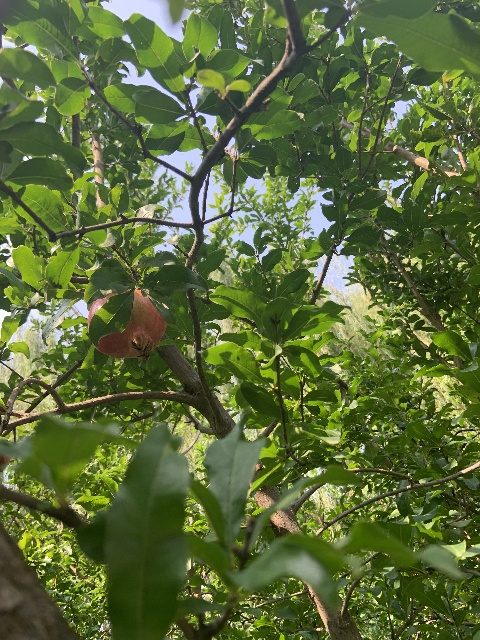ripe: (87, 289, 167, 359)
